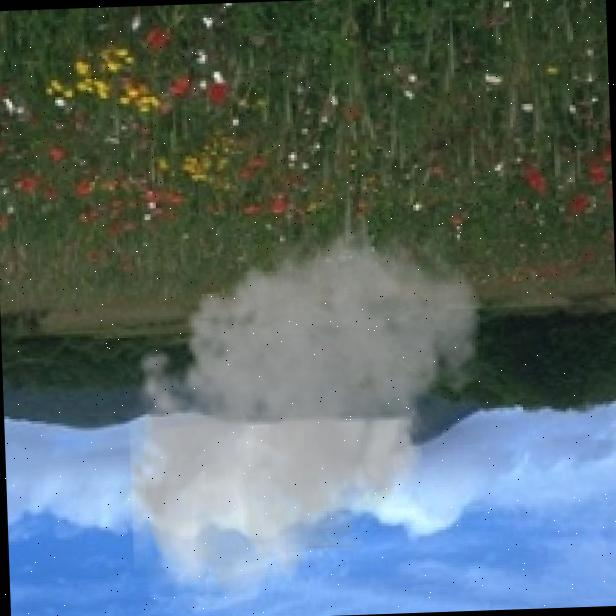smoke: (107, 208, 497, 612)
